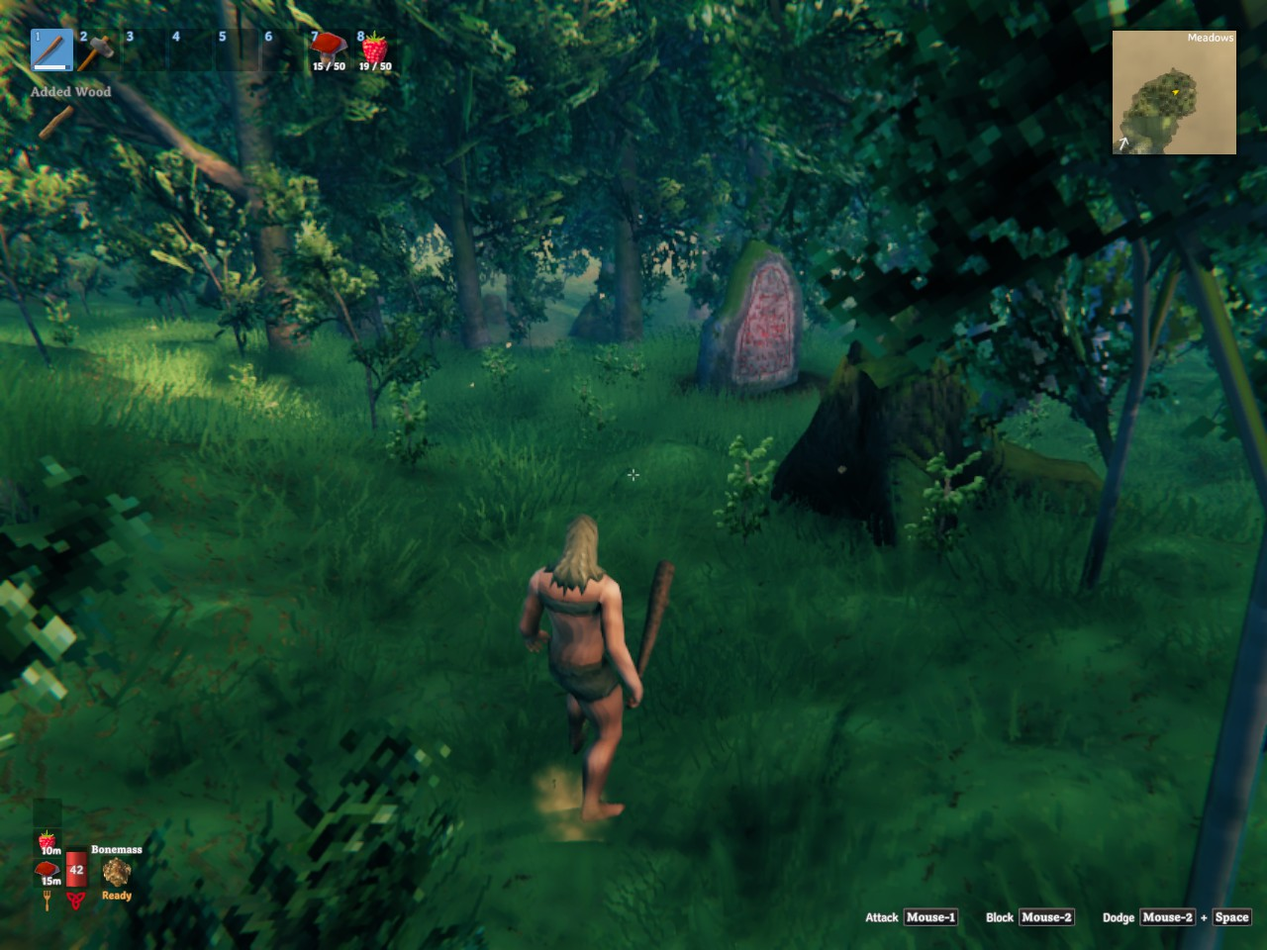Rune Stone: (696, 240, 803, 393)
